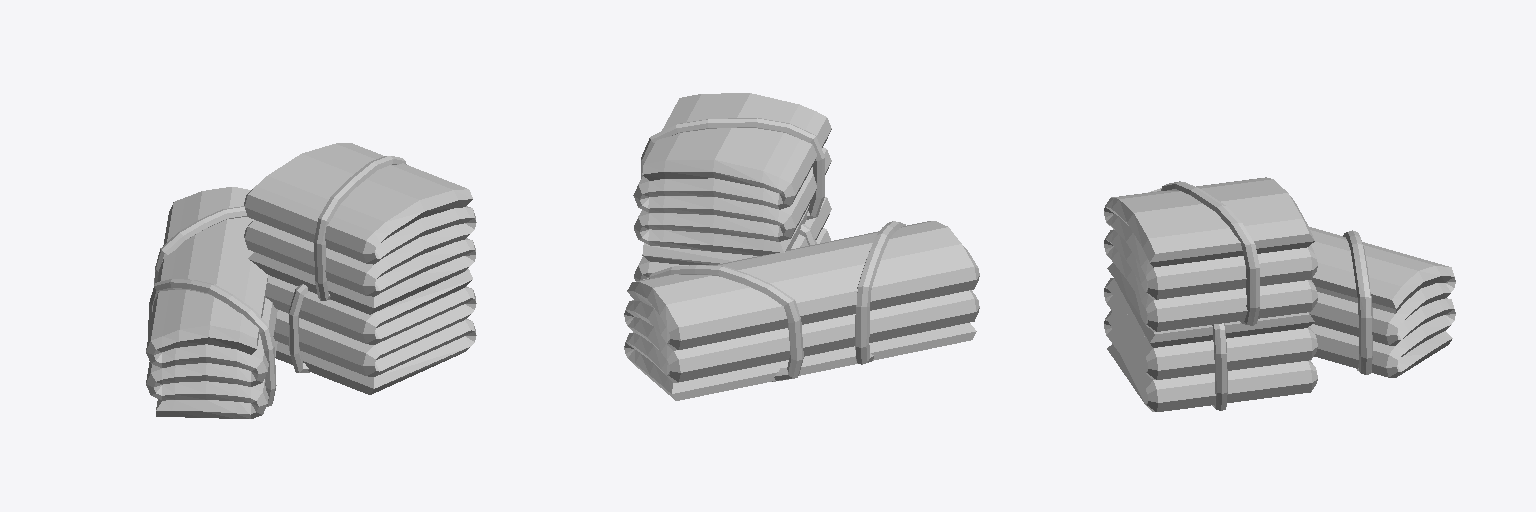
Rendered from Textiles_Stack_Small.obj.
3 renders of one model, left to right at view 1: azimuth 30°, elevation 25°; view 2: azimuth 150°, elevation 25°; view 3: azimuth 270°, elevation 25°, orthographic.
Visible parts, largest first — view 1: Textiles_Stack_Small; view 2: Textiles_Stack_Small; view 3: Textiles_Stack_Small.
Boxes of the visible parts, box(x1,y1,x2,y2) form: Textiles_Stack_Small: box(146, 143, 476, 418); Textiles_Stack_Small: box(624, 93, 979, 400); Textiles_Stack_Small: box(1104, 177, 1455, 411).
Size of the model in its own units: 1.66 by 0.9318 by 1.59.